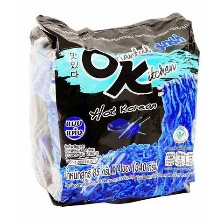snack: (22, 7, 206, 212)
